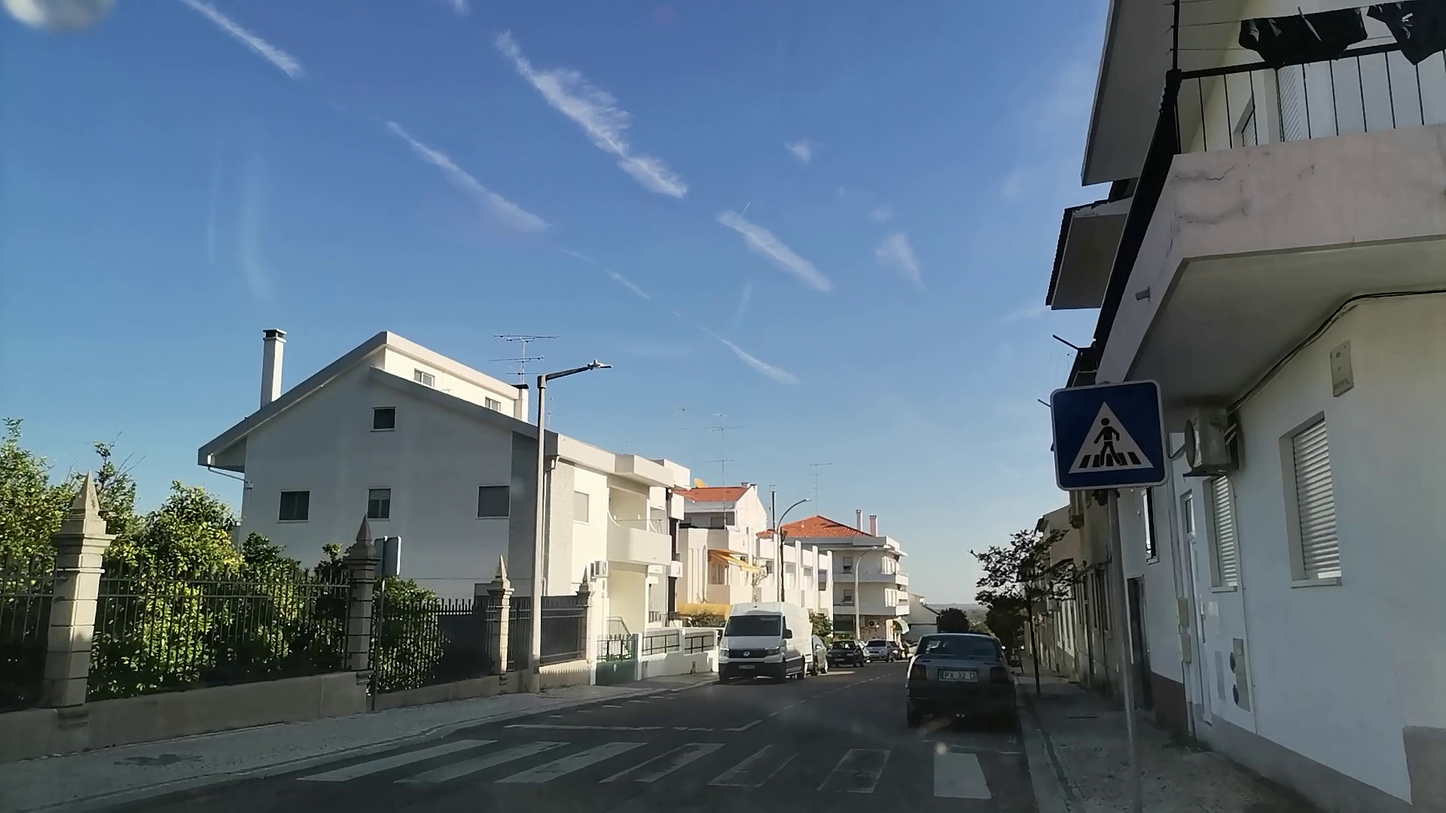Stairs: (291, 735, 1009, 809)
